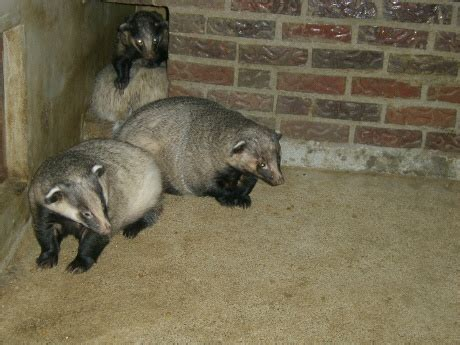badger: (112, 96, 284, 214), (28, 137, 164, 273), (111, 10, 168, 89)
